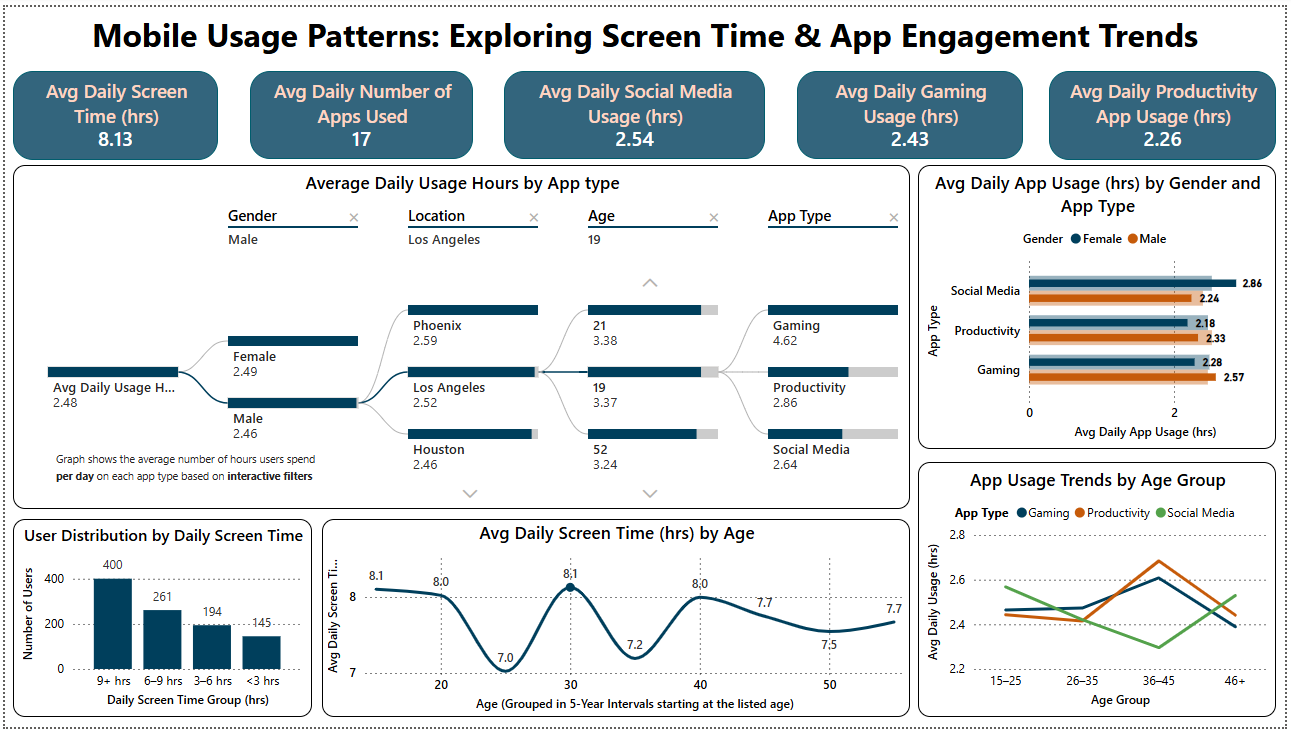

The page's visual inventory and layout, read from the dashboard file:
{"tool":"powerbi","page":{"name":"Page 1","canvas":[1280,720],"ordinal":0},"visuals":[{"type":"textbox","box":[0,0,1280,75.8],"z":0},{"type":"decompositionTreeVisual","title":"Average Daily Usage Hours by App type","fields":{"ExplainBy":["mobile_usage_behavioral_analysis.Gender","mobile_usage_behavioral_analysis.Location","mobile_usage_behavioral_analysis.Age","App_Usage_By_Type.App_Usage_Type"],"Analyze":["App_Usage_By_Type.Avg Daily Usage Hours by App Type"]},"box":[8.1,157.6,897.3,343.9],"z":0,"group":"g1"},{"type":"card","title":"Avg Daily Screen Time (hrs)","fields":{"Values":["Avg(mobile_usage_behavioral_analysis.Daily_Screen_Time_Hours)"]},"box":[8.1,63.6,205.1,89],"z":1000},{"type":"card","title":"Avg Daily Number of Apps Used","fields":{"Values":["Avg(mobile_usage_behavioral_analysis.Number_of_Apps_Used)"]},"box":[245.4,63.6,223,88.7],"z":2000},{"type":"card","title":"Avg Daily Social Media Usage (hrs)","fields":{"Values":["Avg(mobile_usage_behavioral_analysis.Social_Media_Usage_Hours)"]},"box":[499,63.6,260.6,88.7],"z":3000},{"type":"card","title":"Avg Daily Productivity App Usage (hrs)","fields":{"Values":["Avg(mobile_usage_behavioral_analysis.Productivity_App_Usage_Hours)"]},"box":[1044.2,63.6,226.6,89],"z":4000},{"type":"card","title":"Avg Daily Gaming Usage (hrs)","fields":{"Values":["Avg(mobile_usage_behavioral_analysis.Gaming_App_Usage_Hours)"]},"box":[791.6,63.6,226.6,88.7],"z":5000},{"type":"lineChart","title":"Avg Daily Screen Time (hrs) by Age","fields":{"Y":["Avg(mobile_usage_behavioral_analysis.Daily_Screen_Time_Hours)"],"Category":["mobile_usage_behavioral_analysis.Age (bins)"]},"box":[317,512.2,588.4,197.9],"z":6000},{"type":"clusteredColumnChart","title":"User Distribution by Daily Screen Time","fields":{"Category":["mobile_usage_behavioral_analysis.ScreenTimeGroup"],"Y":["CountNonNull(mobile_usage_behavioral_analysis.User_ID)"]},"box":[8.1,512.2,299.1,197.9],"z":7000},{"type":"clusteredBarChart","title":"Avg Daily App Usage (hrs) by Gender and App Type","fields":{"Category":["App_Usage_By_Type.App Type"],"Y":["Avg(App_Usage_By_Type.Usage_Hours)"],"Series":["GenderLookup.Gender"]},"box":[913.4,157.6,357.3,284.8],"z":8000},{"type":"lineChart","title":"App Usage Trends by Age Group","fields":{"Y":["Avg(App_Usage_By_Type.Usage_Hours)"],"Series":["App_Usage_By_Type.App Type"],"Category":["App_Usage_By_Type.Age_Group"]},"box":[913.4,454.9,357.3,255.2],"z":9000},{"type":"textbox","box":[45.9,436.5,281.6,61.4],"z":11000,"group":"g1"},{"type":"group","id":"g1","title":"Group 1","box":[8.1,157.6,897.3,343.9],"z":11001}]}

Visuals, with their boxes in screenshot pixels (x1, y1, x2, y2), scaled from the page's 1280x720 canvas onto the 1291x732 screenshot:
textbox: BBox(0, 0, 1290, 77)
"Average Daily Usage Hours by App type" decompositionTreeVisual: BBox(8, 160, 913, 510)
"Avg Daily Screen Time (hrs)" card: BBox(8, 65, 215, 155)
"Avg Daily Number of Apps Used" card: BBox(248, 65, 472, 155)
"Avg Daily Social Media Usage (hrs)" card: BBox(503, 65, 766, 155)
"Avg Daily Productivity App Usage (hrs)" card: BBox(1053, 65, 1282, 155)
"Avg Daily Gaming Usage (hrs)" card: BBox(798, 65, 1027, 155)
"Avg Daily Screen Time (hrs) by Age" lineChart: BBox(320, 521, 913, 722)
"User Distribution by Daily Screen Time" clusteredColumnChart: BBox(8, 521, 310, 722)
"Avg Daily App Usage (hrs) by Gender and App Type" clusteredBarChart: BBox(921, 160, 1282, 450)
"App Usage Trends by Age Group" lineChart: BBox(921, 462, 1282, 722)
textbox: BBox(46, 444, 330, 506)
"Group 1" group: BBox(8, 160, 913, 510)
